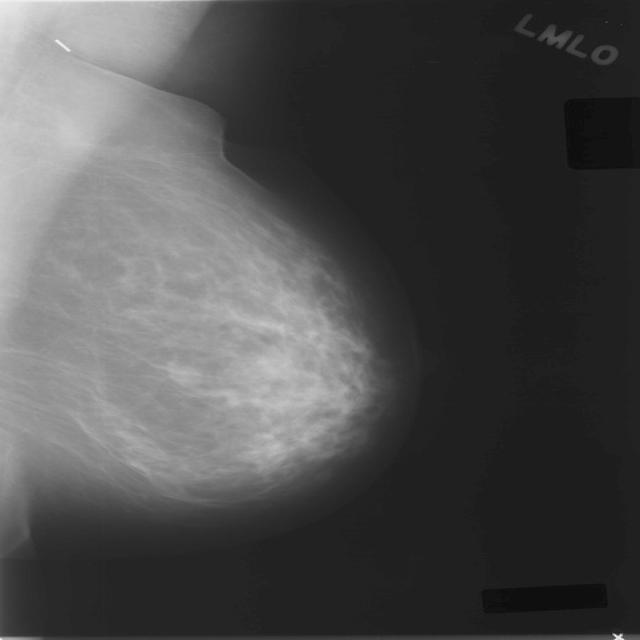tumour: (162, 358, 203, 387)
